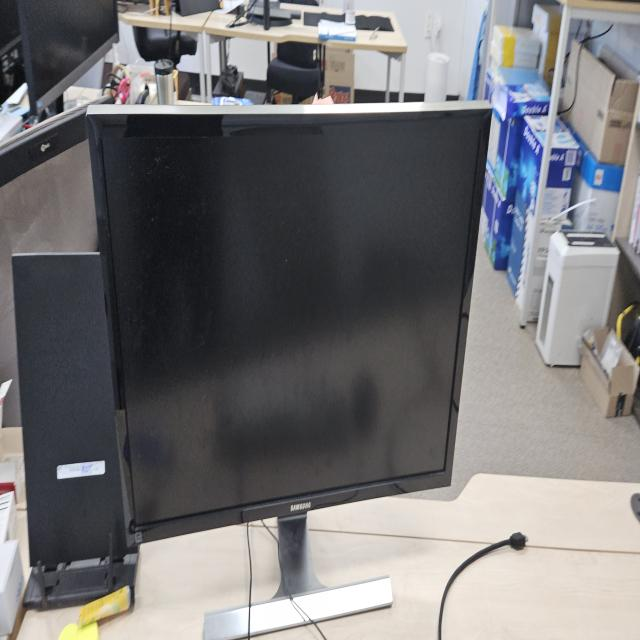Monitor: (83, 92, 494, 630)
